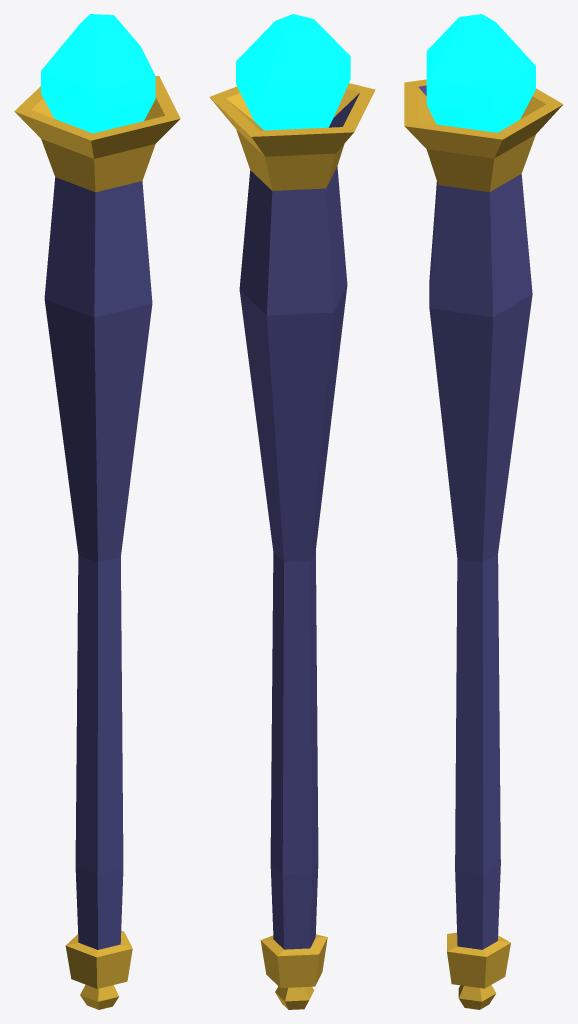
Rendered from scepter.fbx.
3 views of the same model, side by side, from view 1: azimuth 30°, elevation 25°; view 2: azimuth 150°, elevation 25°; view 3: azimuth 270°, elevation 25° (orthographic).
Visible parts, largest first — view 1: Cylinder; view 2: Cylinder; view 3: Cylinder.
Boxes of the visible parts, box(x1,y1,x2,y2) form: Cylinder: box(14, 14, 180, 1009); Cylinder: box(209, 14, 375, 1009); Cylinder: box(404, 14, 563, 1009).
Size of the model in its own units: 89.69 by 581 by 85.3.
